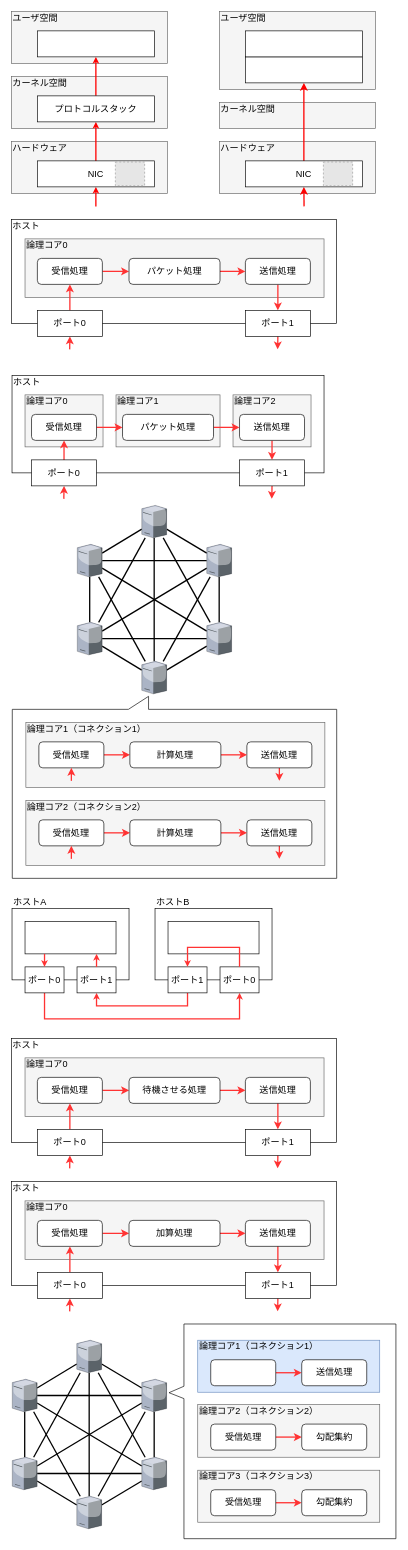
Image size: 408x1550. Some labels were removed from this diagram. Grey dashed boxes stand in for pictures. The shapes that lost their labels are listed below. From the top down, each one's centre as x and y in pixels, then its label:
the point at 95,43: アプリケーション
the point at 303,43: DPDKアプリケーション
the point at 303,69: DPDKライブラリ
the point at 70,937: クライアント
the point at 213,937: 評価用プログラム
the point at 243,1372: 単回帰分析
